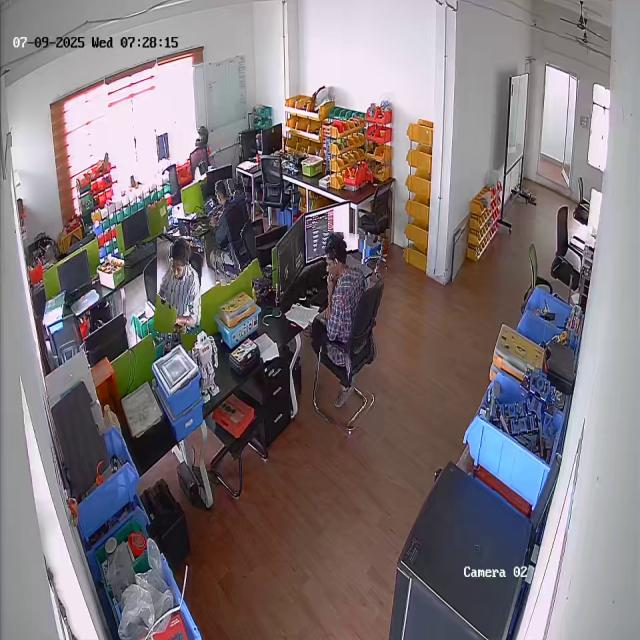person: (303, 232, 384, 426), (205, 177, 258, 285), (155, 235, 204, 334)
